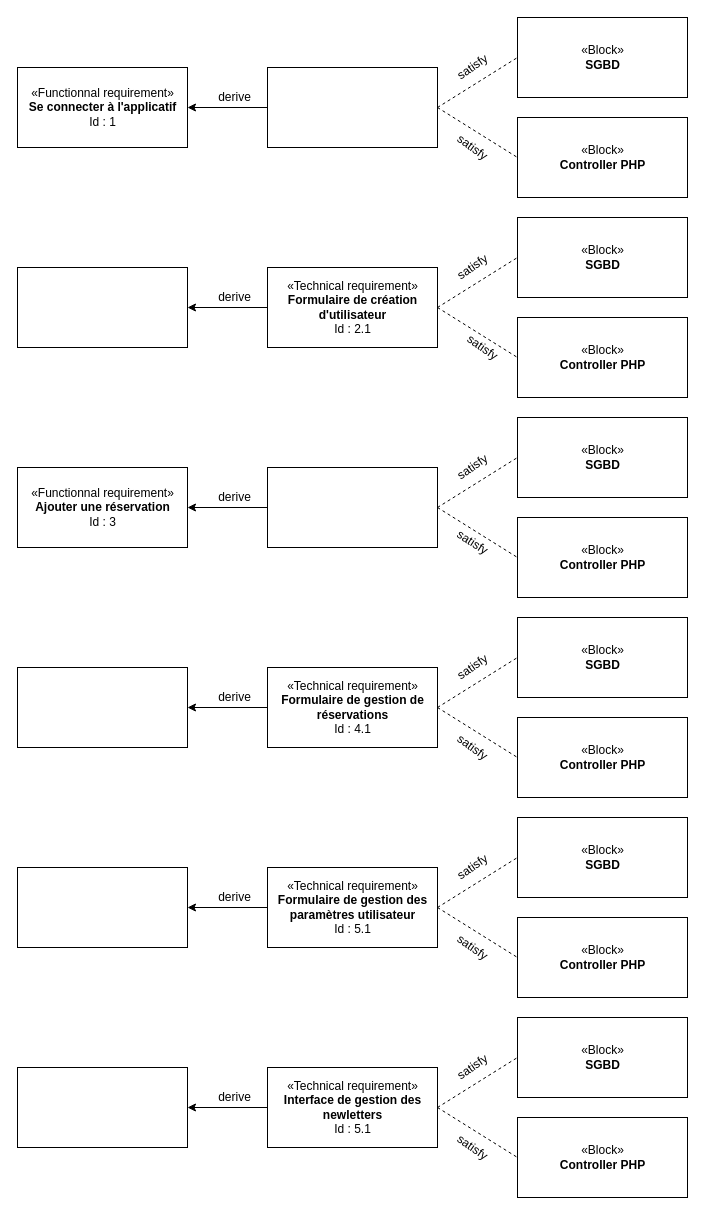
The diagram is 705 pixels wide and 1215 high, and some of its shapes have lost their labels. Here are the shapes that lost their labels. From the top down, the centre of each, then its label:
At point (352, 107): "«Technical requirement» Formulaire de connexion Id : 1.1".
At point (102, 307): "«Functionnal requirement» Créer un nouvel utilisateur Id : 2".
At point (352, 507): "«Technical requirement» Formulaire d'ajout de réservation Id : 3.1".
At point (102, 707): "«Functionnal requirement» Gérer les réservations Id : 4".
At point (102, 907): "«Functionnal requirement» Modifier paramètres utilisateur Id : 5".
At point (102, 1107): "«Functionnal requirement» Envoyer des newletters Id : 5".
